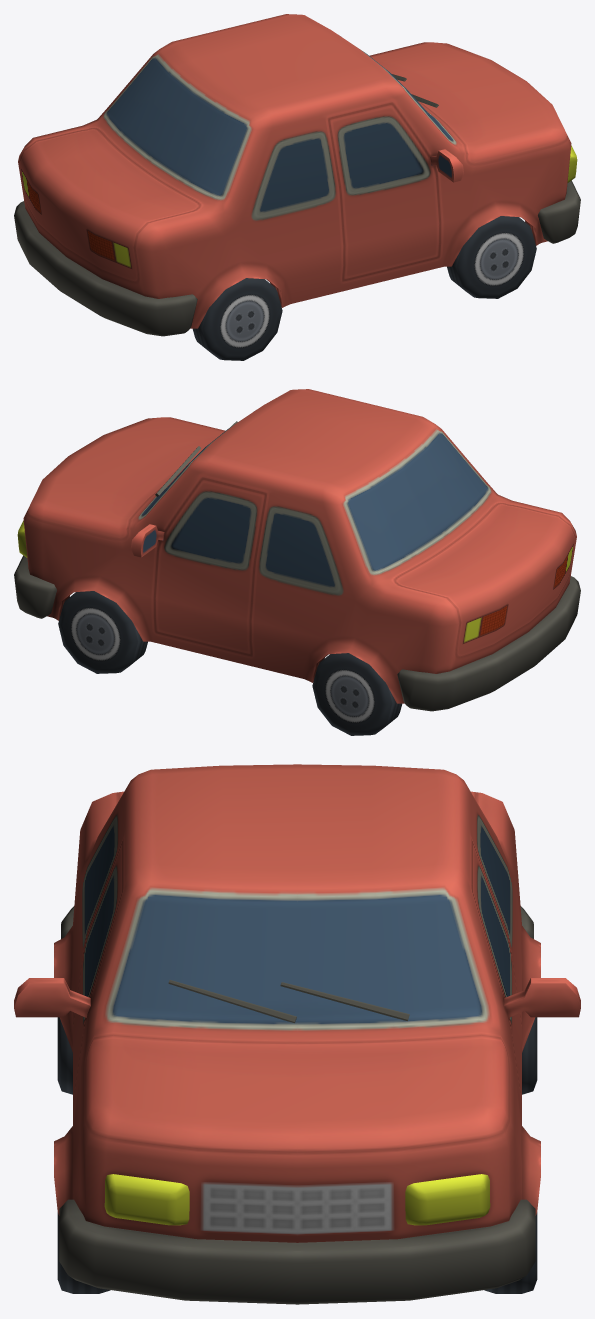
The model's file is Mesh_Item_03_Car_01.FBX.
3 renders of one model, top to bottom at view 1: azimuth 30°, elevation 25°; view 2: azimuth 150°, elevation 25°; view 3: azimuth 270°, elevation 25°, orthographic. The views are drawn at different scales.
Parts seen in each view (by area): view 1: Mesh_Item_03_Car_01; view 2: Mesh_Item_03_Car_01; view 3: Mesh_Item_03_Car_01.
Boxes of the visible parts, x1=… form: Mesh_Item_03_Car_01: x1=14, y1=14, x2=580, y2=360; Mesh_Item_03_Car_01: x1=14, y1=389, x2=580, y2=735; Mesh_Item_03_Car_01: x1=14, y1=764, x2=580, y2=1304.
Size of the model in its own units: 3.82 by 1.67 by 2.42.
Materials: 1 (1 with a texture image).
